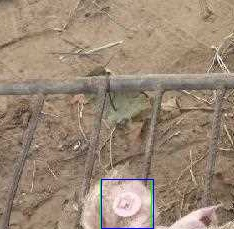text: (100, 179, 151, 229)
